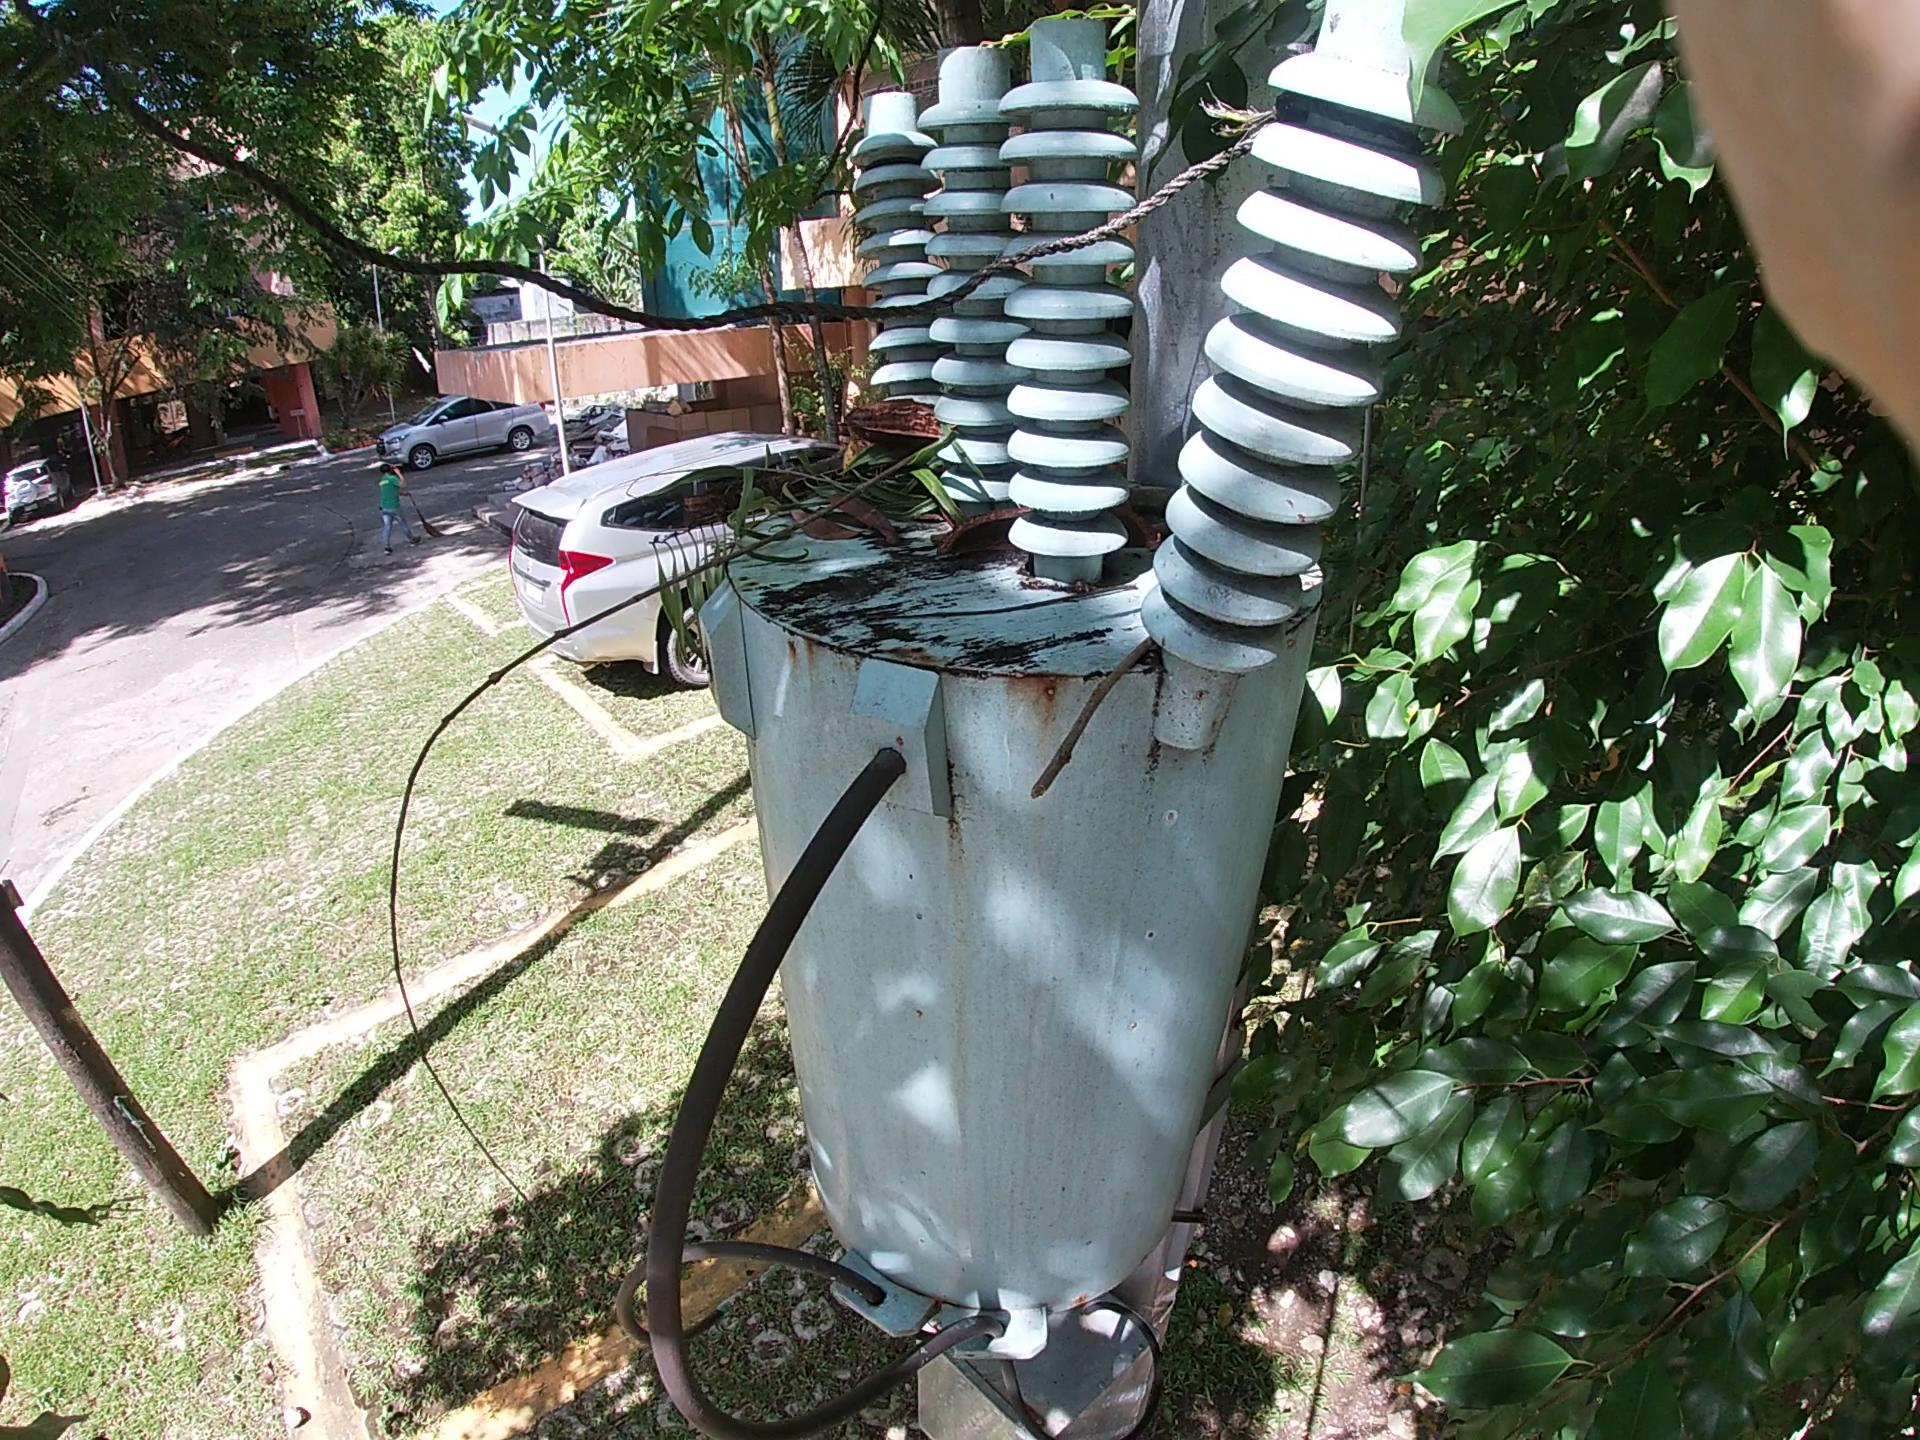branch with leaves: (609, 303, 1020, 673)
mahogany fruit: (830, 357, 1020, 483), (915, 495, 1072, 604)
tree branch: (410, 386, 992, 915), (1010, 542, 1237, 861)
